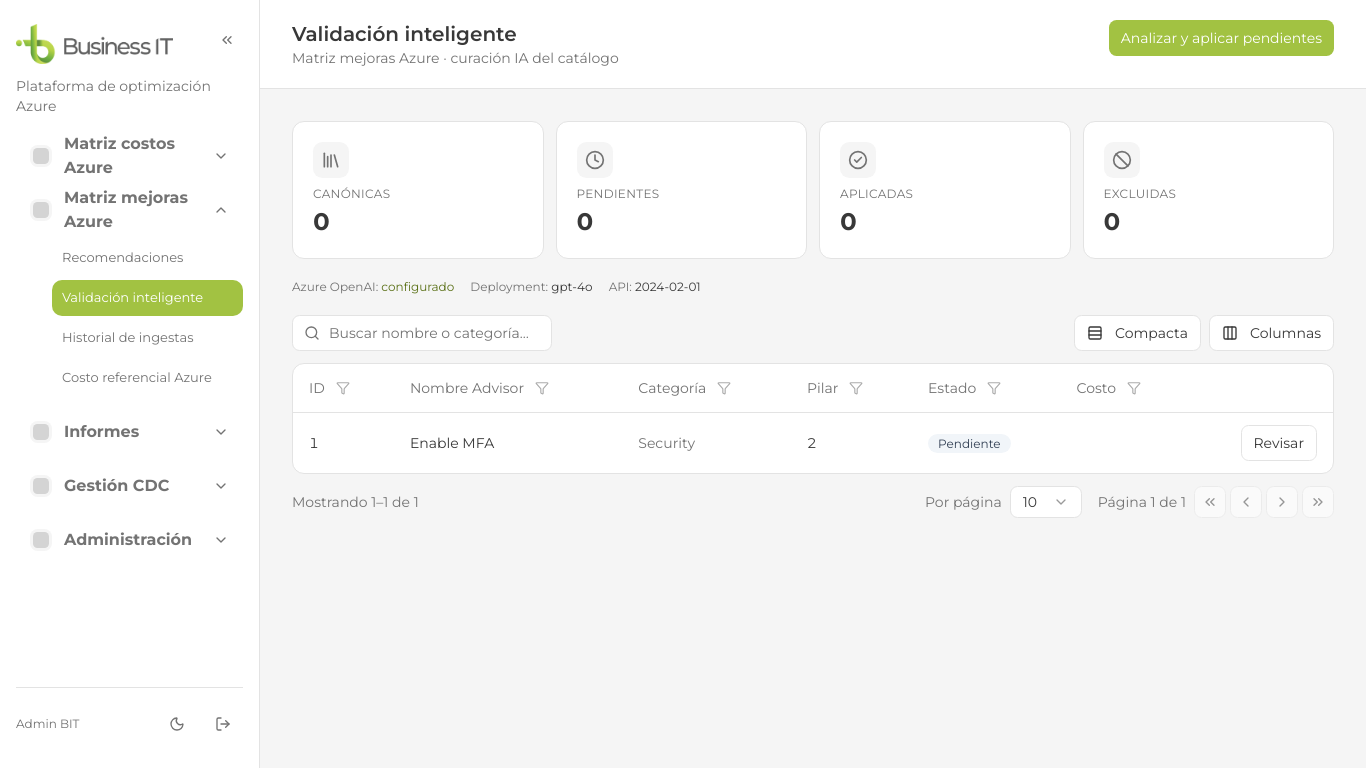
Test: muestra config IA y catálogo; abre el editor
expect the text "Enable MFA" is shown: met, box [410,434,494,452]
expect the text "gpt-4o" is shown: met, box [551,279,593,294]
Step 1. Click the button "Revisar" → [1279, 442], box [1240,424,1317,460]
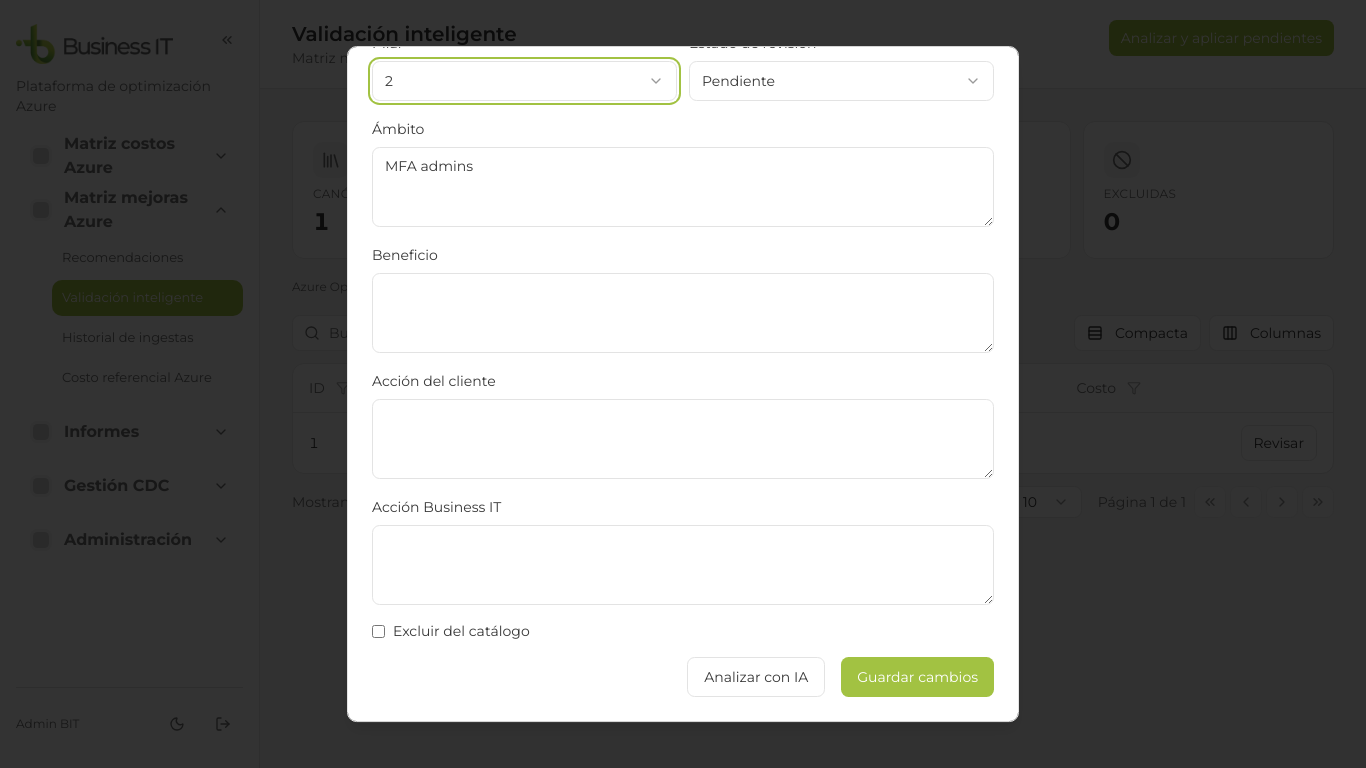
expect the button "Guardar cambios" is shown: met, box [841,657,994,697]
